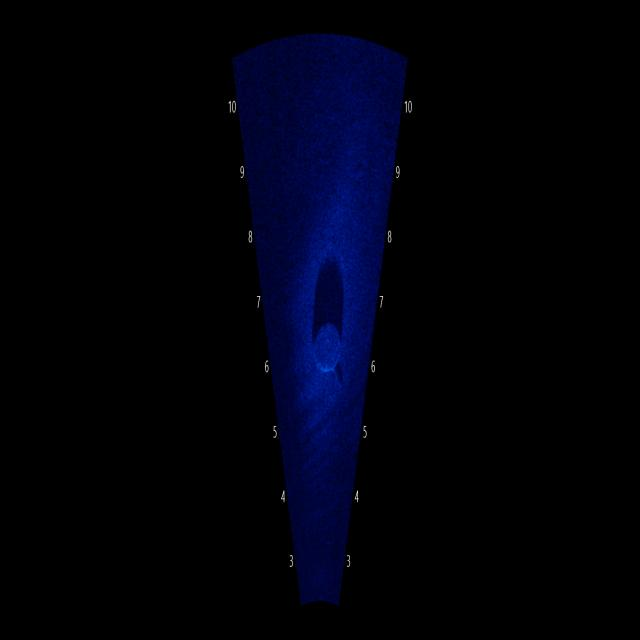circle: (304, 318, 350, 382)
